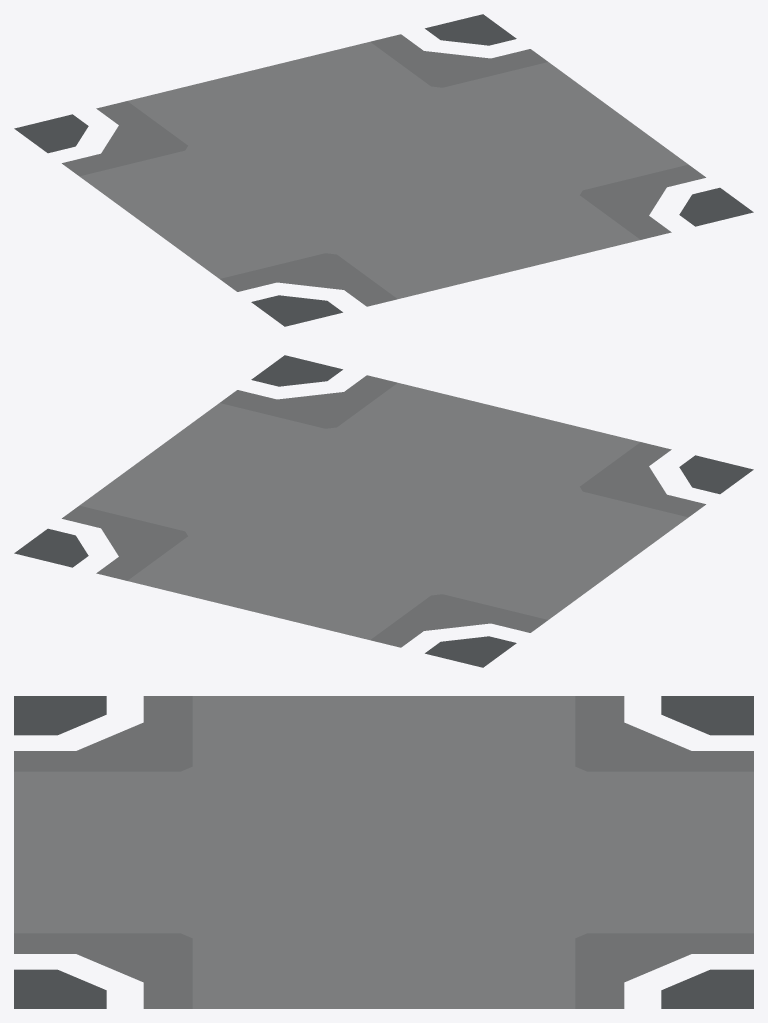
The model's file is Ceiling_type_B_032.glb.
3 renders of one model, top to bottom at view 1: azimuth 30°, elevation 25°; view 2: azimuth 150°, elevation 25°; view 3: azimuth 270°, elevation 25°, orthographic. The views are drawn at different scales.
Visible parts, largest first — view 1: Ceiling_type_B_032; view 2: Ceiling_type_B_032; view 3: Ceiling_type_B_032.
Boxes of the visible parts, x1=… form: Ceiling_type_B_032: x1=14, y1=14, x2=753, y2=326; Ceiling_type_B_032: x1=14, y1=355, x2=753, y2=667; Ceiling_type_B_032: x1=14, y1=696, x2=753, y2=1008.
Bounding box in the file's own units: 4 × 0.0618 × 4.
Materials: 2 (2 with a texture image).
